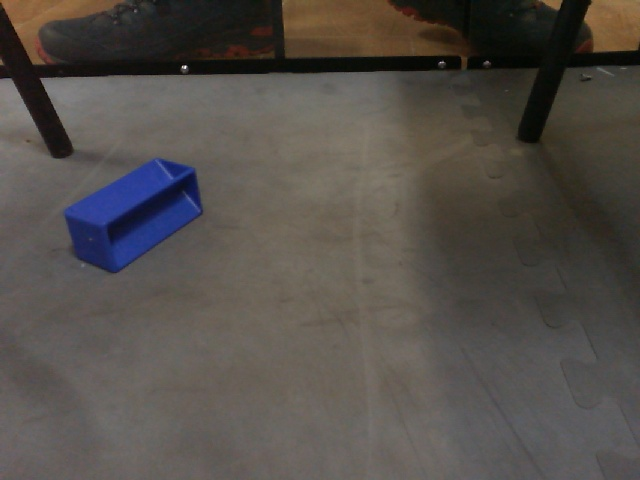BlueSample: (61, 157, 206, 275)
